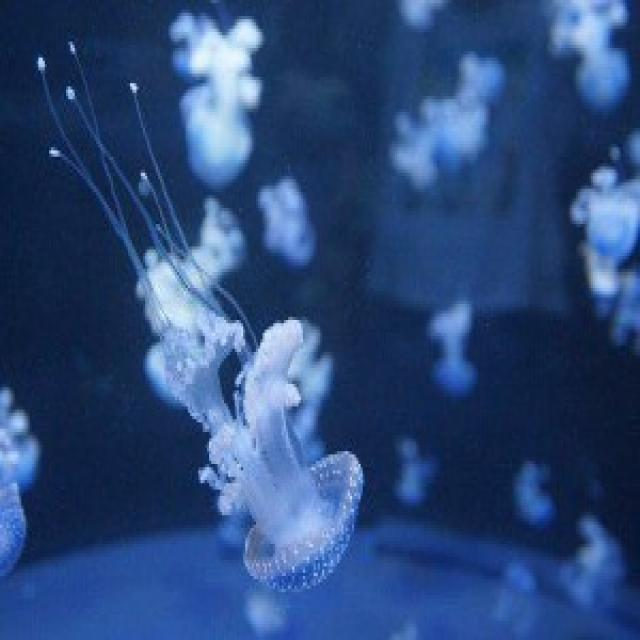Jellyfish: (160, 290, 377, 586), (168, 0, 267, 197)
